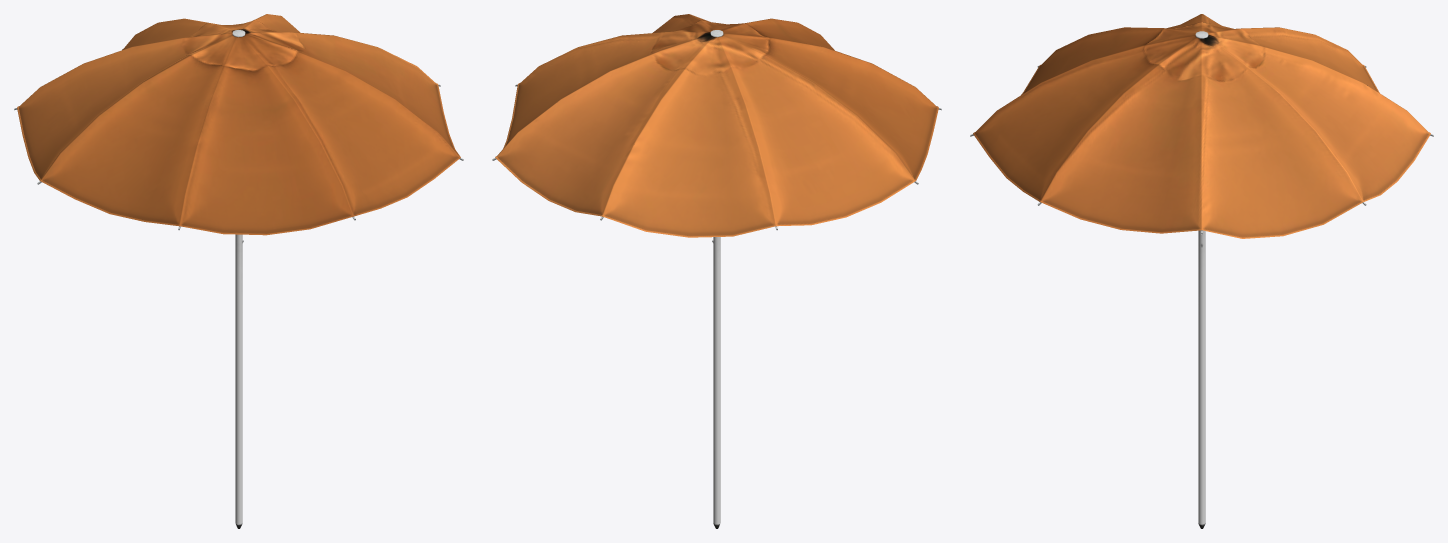
File: Parasol1.fbx
3 renders of one model, left to right at view 1: azimuth 30°, elevation 25°; view 2: azimuth 150°, elevation 25°; view 3: azimuth 270°, elevation 25°, orthographic.
Parts seen in each view (by area): view 1: Parasol1_LOD0; view 2: Parasol1_LOD0; view 3: Parasol1_LOD0.
Boxes of the visible parts, box(x1,y1,x2,y2) form: Parasol1_LOD0: box(14, 14, 463, 528); Parasol1_LOD0: box(492, 14, 941, 528); Parasol1_LOD0: box(970, 14, 1433, 528).
Size of what is drawn, in the model's own units: 203 by 239 by 203.
